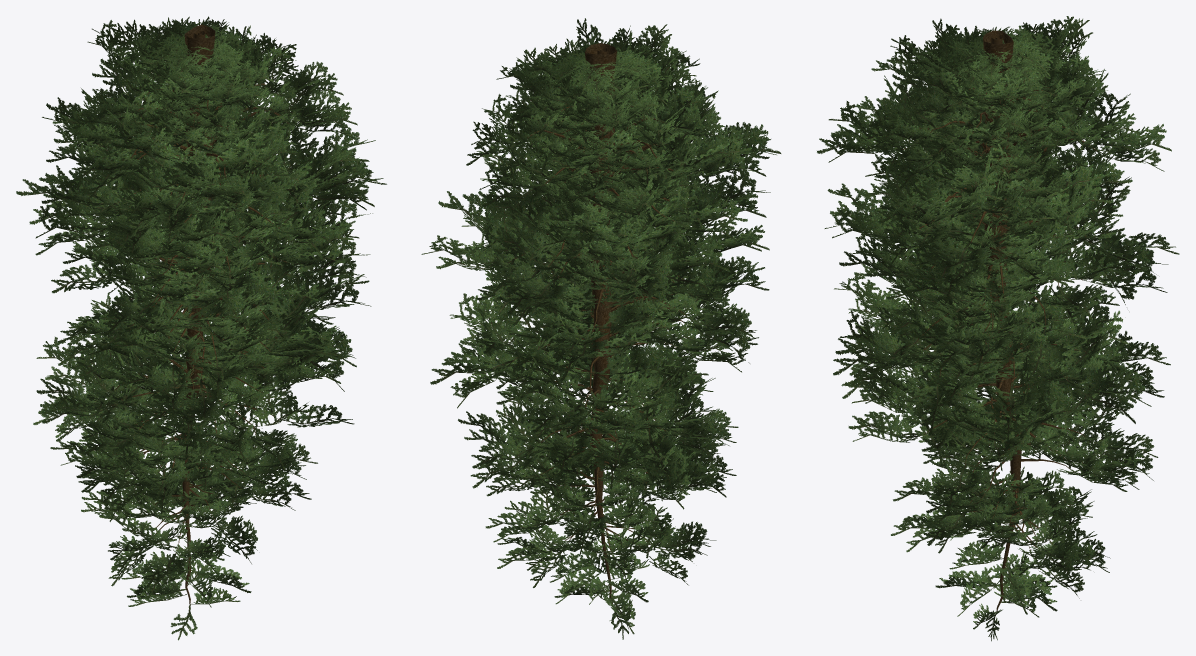
The model's file is realistic_fir_tree_clean.glb.
3 views of the same model, side by side, from view 1: azimuth 30°, elevation 25°; view 2: azimuth 150°, elevation 25°; view 3: azimuth 270°, elevation 25° (orthographic). The views are drawn at different scales.
Parts seen in each view (by area): view 1: Fir1_Needles, Fir2_Needles, Fir1_Trunk, Fir3_Needles; view 2: Fir1_Needles, Fir2_Needles, Fir1_Trunk, Fir3_Needles; view 3: Fir1_Needles, Fir2_Needles, Fir1_Trunk, Fir3_Needles.
Part boxes in pixels (x1,y1,x2,y2): Fir1_Needles: (16,16,386,640); Fir2_Needles: (103,17,296,281); Fir1_Trunk: (112,24,293,604); Fir3_Needles: (146,21,244,113); Fir1_Needles: (421,24,781,639); Fir2_Needles: (506,18,699,313); Fir1_Trunk: (508,43,696,603); Fir3_Needles: (548,44,653,135); Fir1_Needles: (817,16,1179,641); Fir2_Needles: (908,18,1101,312); Fir1_Trunk: (903,30,1097,611); Fir3_Needles: (943,26,1058,120).
Size of the model in its own units: 5.29 by 9.3 by 5.04.
2 materials, 2 textured.
